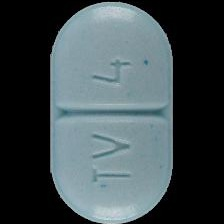70786-1716: (0, 0, 224, 224)
